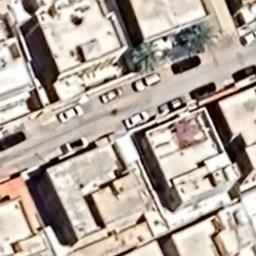sedan: (54, 102, 88, 124), (96, 86, 126, 106), (157, 96, 189, 114), (122, 112, 152, 130)
unknown: (168, 54, 206, 77), (2, 130, 30, 152), (189, 82, 219, 102)
van: (132, 70, 166, 94)
